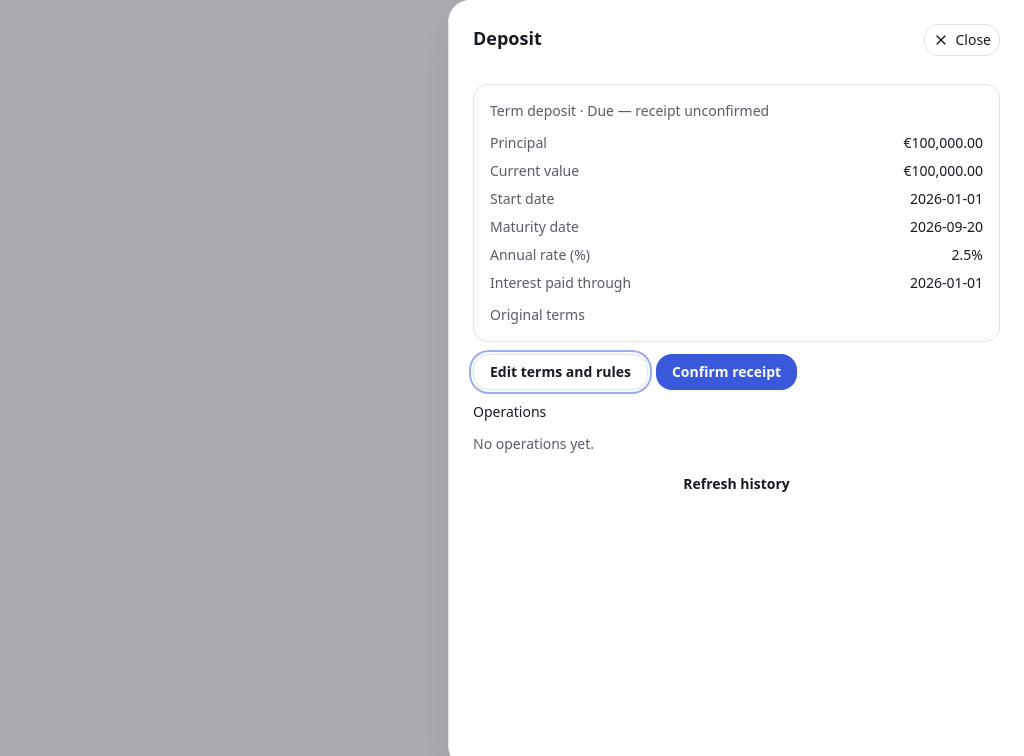
Test: product P1 regression flows › does not reopen a canceled or edited draft after a delayed receipt read
Click the button "Confirm receipt" at (727,372), box top-left (656, 354), bottom-right (797, 390)
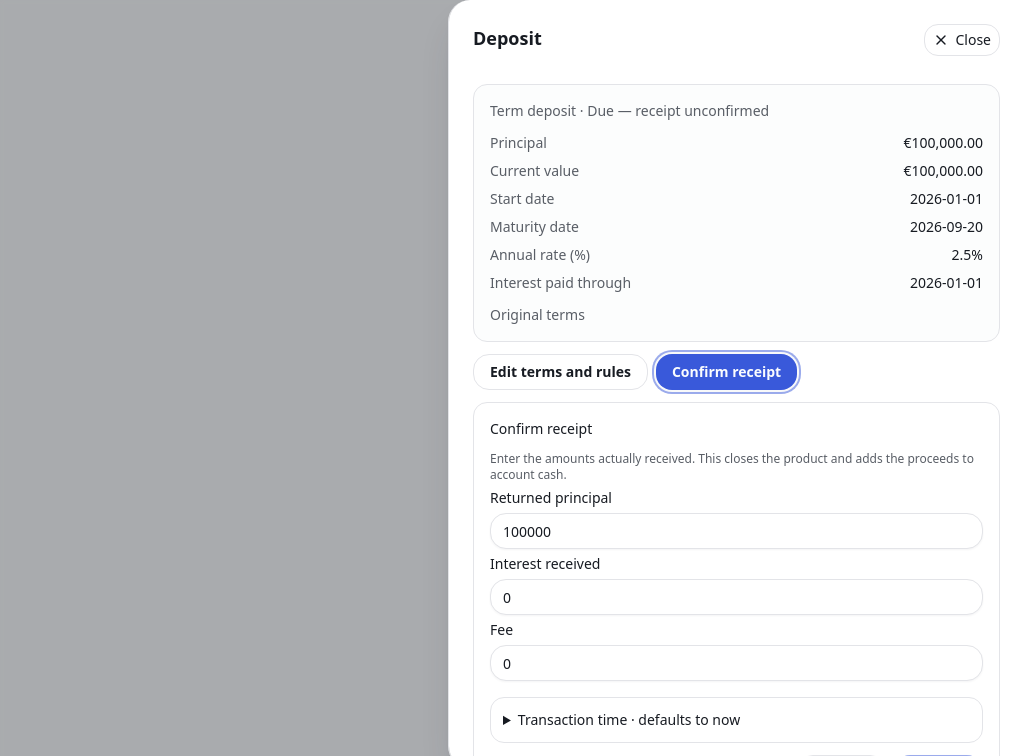
Replace the text in the field labelled "Returned principal" with "95000" at (736,531), box top-left (490, 513), bottom-right (983, 549)
(page scrolled)
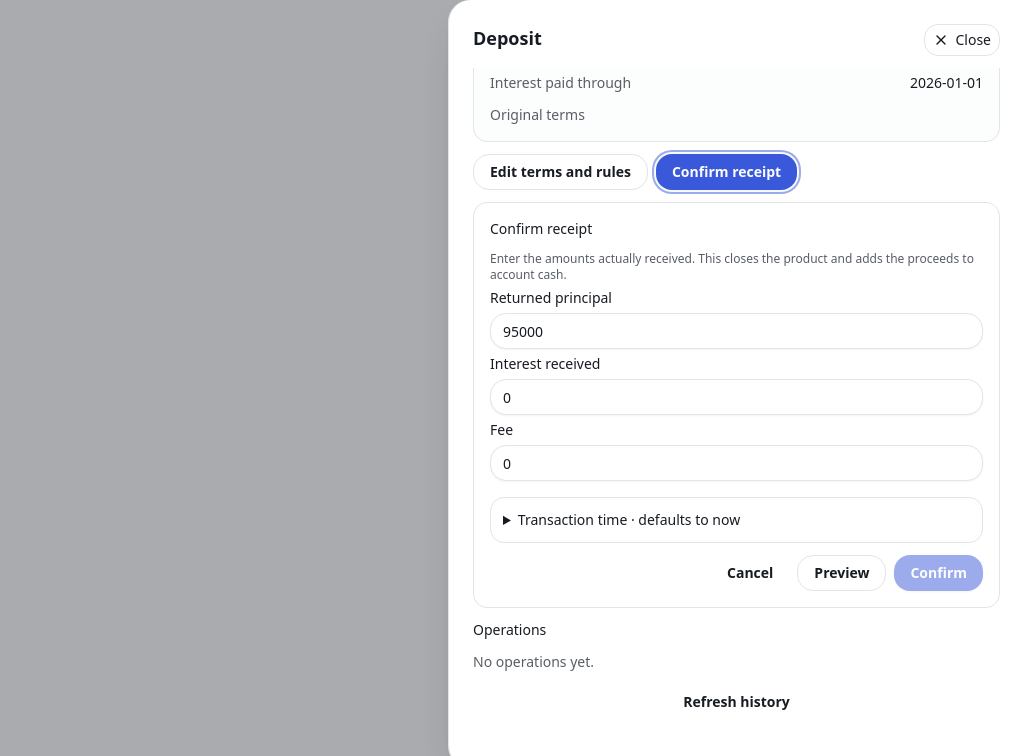
Click the button "Cancel" at (750,573), box top-left (711, 555), bottom-right (789, 591)
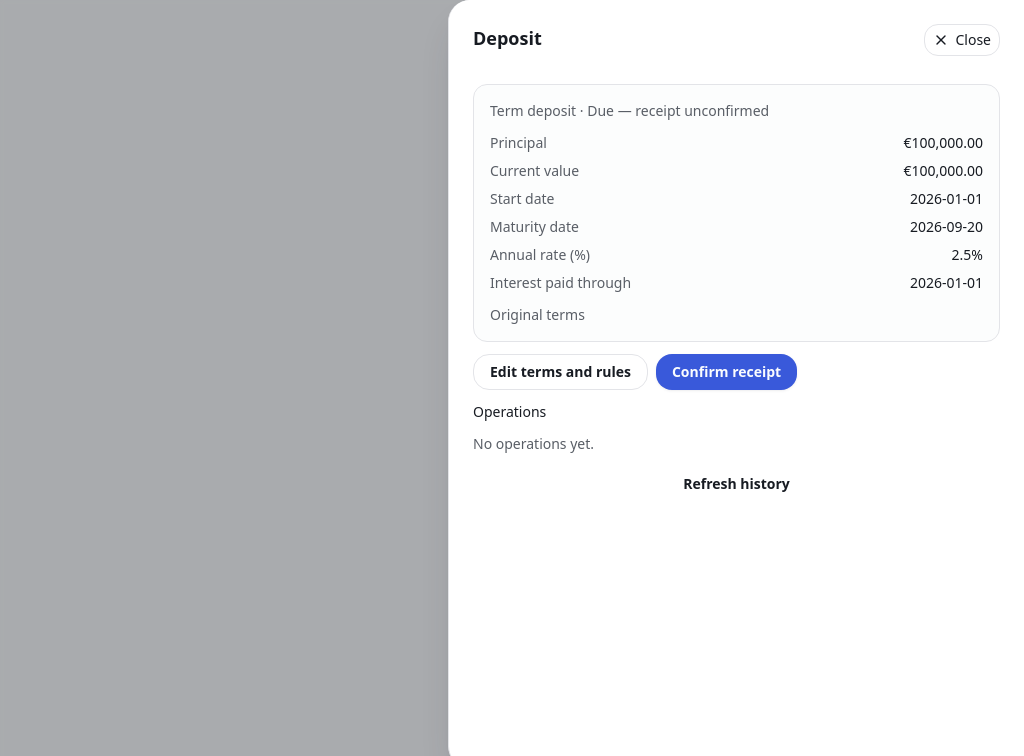
expect the label labelled "Returned principal" is gone: met
